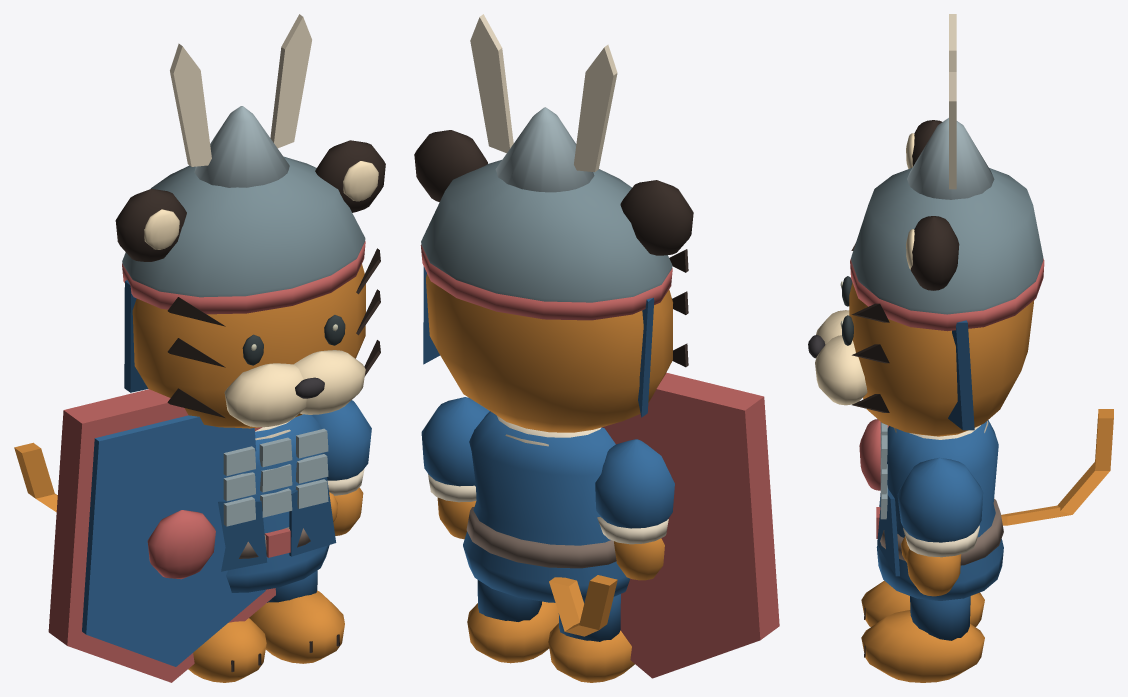
Rendered from guard.glb.
3 views of the same model, side by side, from view 1: azimuth 30°, elevation 25°; view 2: azimuth 150°, elevation 25°; view 3: azimuth 270°, elevation 25° (orthographic). The views are drawn at different scales.
Visible parts, largest first — view 1: Regional shield face, Regional helmet, Animal cheek head, Shield gold rim, Short folded tunic, Soft animal paw.001, Goguryeo pointed crown, Tiger white muzzle, Helmet brow band, Shield boss, Soft animal paw, Feather plume.001 (+26 smaller); view 2: Shield gold rim, Regional helmet, Animal cheek head, Short folded tunic, Puff sleeve, Goguryeo pointed crown, Helmet brow band, Puff sleeve.001, Tiger round ear, Soft animal paw.001, Broad leather belt, Feather plume.001 (+13 smaller); view 3: Regional helmet, Animal cheek head, Short folded tunic, Puff sleeve.001, Soft animal paw.001, Goguryeo pointed crown, Helmet brow band, Tiger round ear.001, Curved animal tail, Tiger white muzzle.001, Stubby trouser.001, Little mitten.001 (+9 smaller).
Part boxes in pixels (box(x1,y1,x2,y2)): Regional shield face: box(82, 415, 265, 666); Regional helmet: box(122, 156, 365, 297); Animal cheek head: box(132, 264, 365, 428); Shield gold rim: box(48, 389, 275, 682); Short folded tunic: box(226, 414, 329, 592); Soft animal paw.001: box(249, 590, 344, 663); Goguryeo pointed crown: box(194, 106, 289, 187); Tiger white muzzle: box(224, 363, 306, 427); Helmet brow band: box(122, 241, 365, 314); Shield boss: box(147, 510, 215, 579); Soft animal paw: box(188, 618, 266, 682); Feather plume.001: box(270, 14, 311, 148); Shield gold rim: box(602, 372, 779, 678); Regional helmet: box(421, 160, 672, 302); Animal cheek head: box(426, 274, 672, 432); Short folded tunic: box(463, 411, 629, 602); Puff sleeve: box(595, 439, 674, 528); Goguryeo pointed crown: box(495, 107, 594, 192); Helmet brow band: box(420, 245, 672, 320); Puff sleeve.001: box(421, 397, 489, 486); Tiger round ear: box(620, 180, 693, 255); Soft animal paw.001: box(467, 601, 558, 663); Broad leather belt: box(466, 507, 616, 568); Feather plume.001: box(470, 14, 513, 153); Regional helmet: box(851, 168, 1043, 314); Animal cheek head: box(849, 282, 1034, 436); Short folded tunic: box(876, 420, 1003, 600); Puff sleeve.001: box(897, 457, 983, 542); Soft animal paw.001: box(861, 610, 984, 682); Goguryeo pointed crown: box(907, 118, 994, 199); Helmet brow band: box(850, 258, 1044, 331); Tiger round ear.001: box(910, 216, 959, 290); Curved animal tail: box(1001, 409, 1113, 525); Tiger white muzzle.001: box(815, 335, 867, 405); Stubby trouser.001: box(910, 596, 970, 640); Little mitten.001: box(906, 549, 961, 596).
Bounding box in the file's own units: 1.11 × 1.98 × 0.89.
